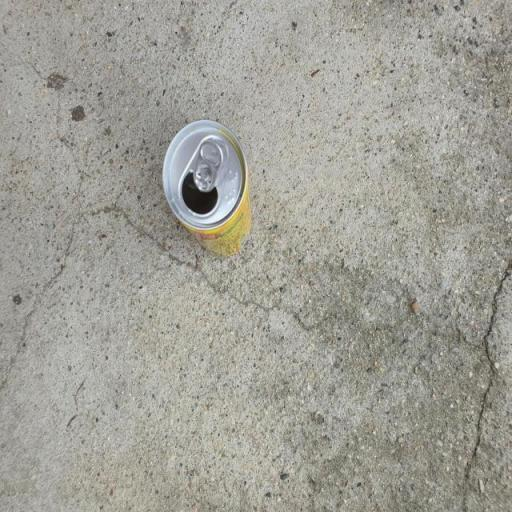metal: (136, 82, 272, 312)
